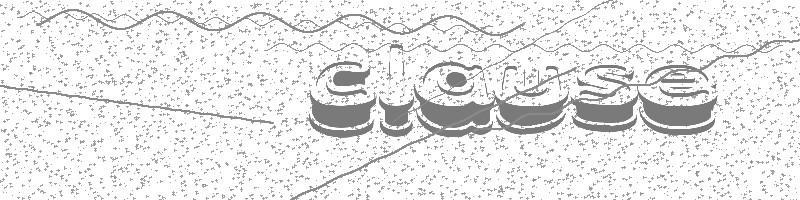a: (414, 59, 494, 137)
c: (308, 59, 377, 139)
e: (638, 64, 717, 136)
l: (377, 42, 414, 138)
s: (571, 64, 638, 133)
u: (494, 62, 569, 135)
